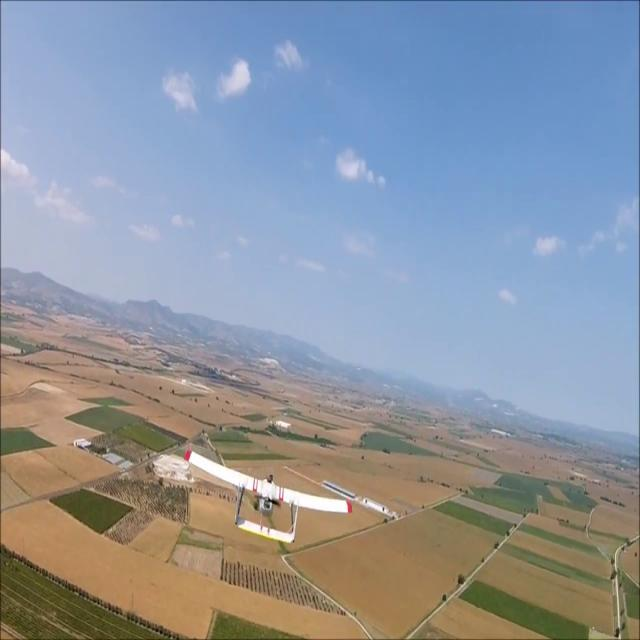iha: (178, 475, 360, 530)
